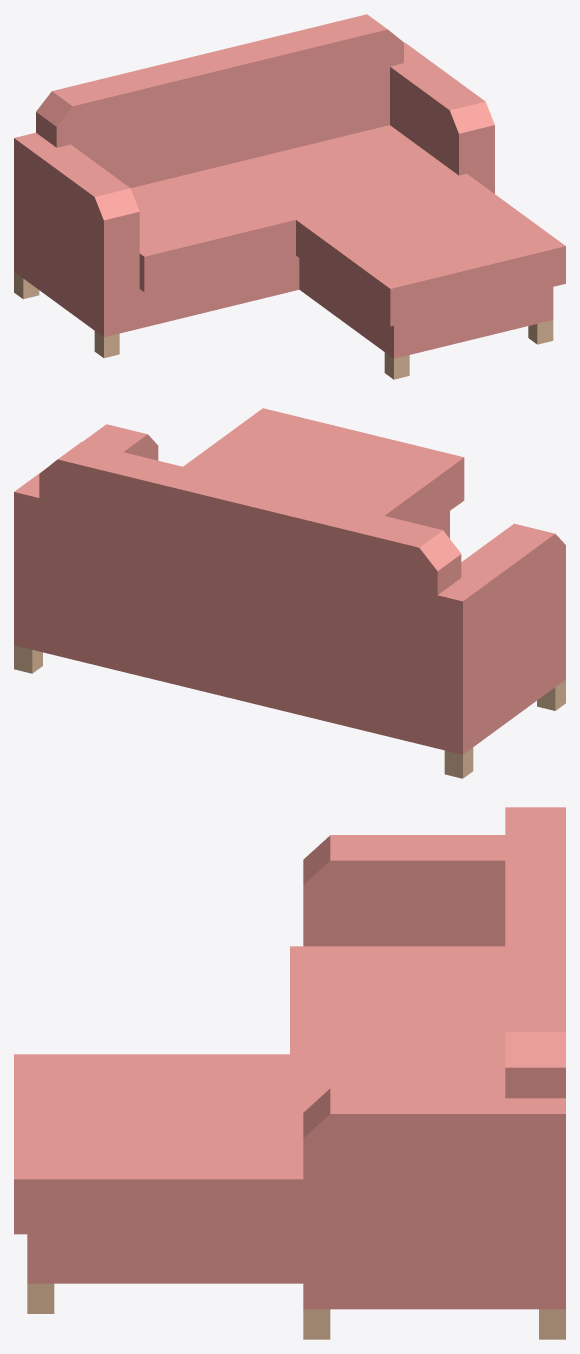
File: loungeSofaLong.glb
The picture shows the model from 3 angles, top to bottom: view 1: azimuth 30°, elevation 25°; view 2: azimuth 150°, elevation 25°; view 3: azimuth 270°, elevation 25°; orthographic projection. The views are drawn at different scales.
Parts seen in each view (by area): view 1: loungeSofaLong(Clone); view 2: loungeSofaLong(Clone); view 3: loungeSofaLong(Clone).
Boxes of the visible parts, x1,y1,x2,y2 form: loungeSofaLong(Clone): (14,14,565,379); loungeSofaLong(Clone): (14,408,565,778); loungeSofaLong(Clone): (14,807,565,1339).
Size of the model in its own units: 0.98 by 0.46 by 0.82.
